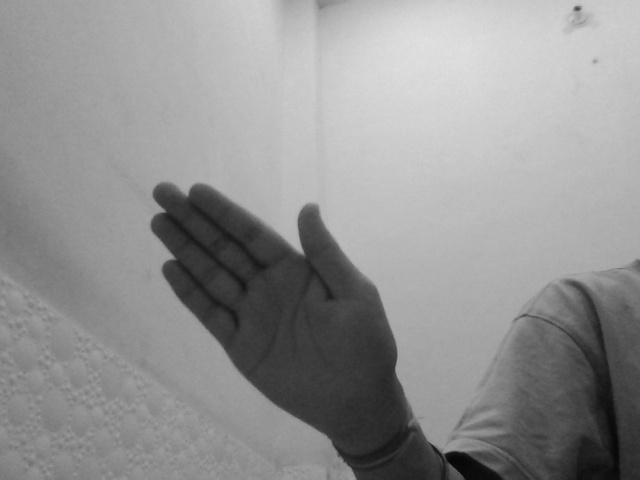Hello: (143, 176, 408, 462)
